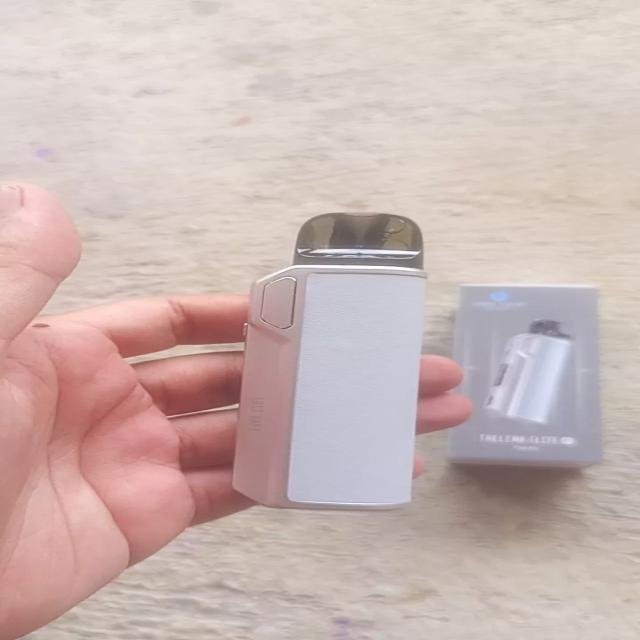Hazard: (232, 208, 429, 510), (486, 318, 569, 424)
